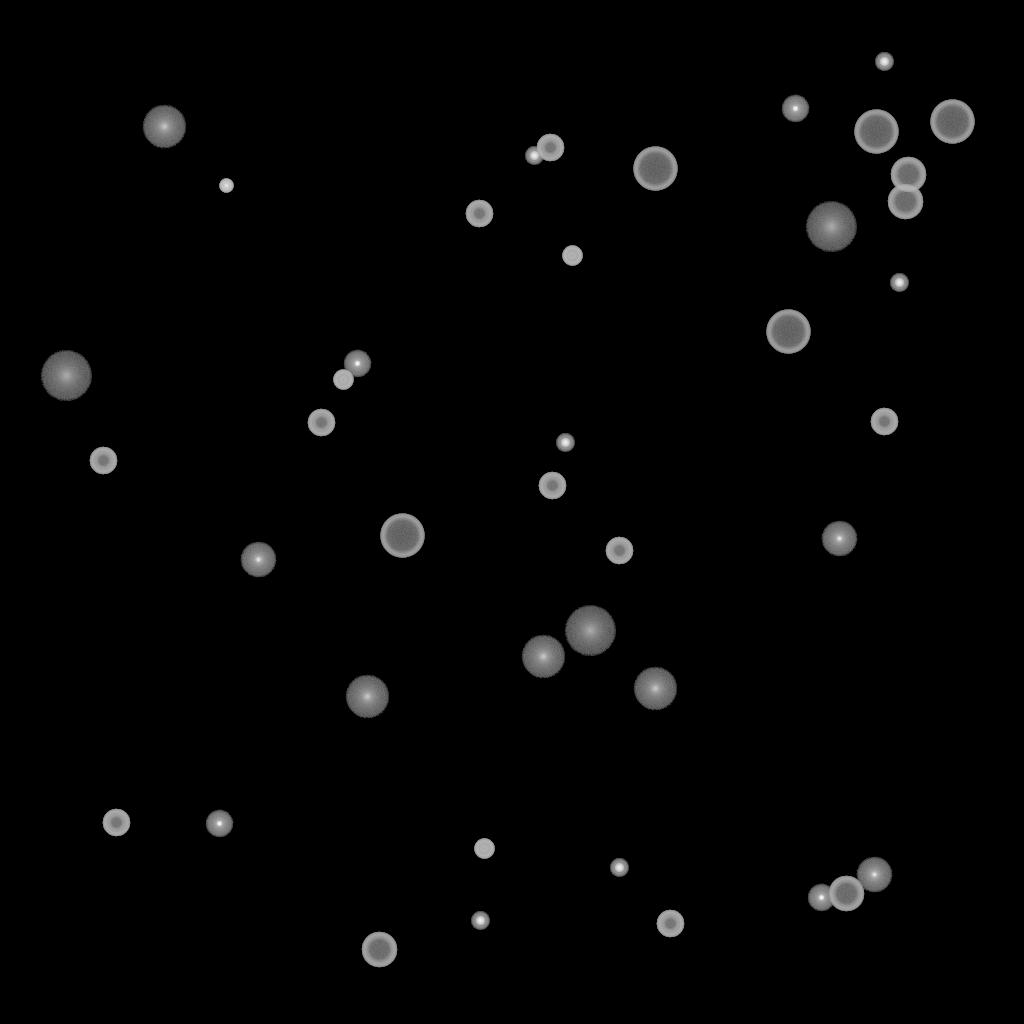depth:-10: (343, 350, 371, 378), (205, 810, 233, 838), (781, 95, 809, 123), (807, 884, 835, 912)
depth:-20: (875, 53, 893, 71), (556, 434, 574, 452), (610, 859, 628, 877), (890, 274, 908, 292), (525, 147, 543, 165), (471, 912, 489, 930)
depth:-30: (219, 179, 233, 193)
depth:-40: (474, 839, 494, 859), (562, 246, 582, 266), (333, 370, 353, 390)
depth:-50: (605, 537, 633, 565), (870, 408, 898, 436), (536, 134, 564, 162), (89, 447, 117, 475), (656, 910, 684, 938), (307, 409, 335, 437), (538, 472, 566, 500), (102, 809, 130, 837), (465, 200, 493, 228)
depth:-60: (890, 157, 926, 193), (361, 932, 397, 968), (828, 876, 864, 912), (887, 184, 923, 220)
depth:-70: (766, 310, 810, 354), (854, 110, 898, 154), (633, 147, 677, 191), (930, 100, 974, 144), (380, 514, 424, 558)
depth:0: (821, 521, 857, 557), (240, 542, 276, 578), (856, 857, 892, 893)
depth:10: (633, 667, 677, 711), (345, 675, 389, 719), (142, 105, 186, 149), (521, 635, 565, 679)
depth:20: (564, 606, 616, 656), (805, 202, 857, 252), (40, 351, 92, 401)
